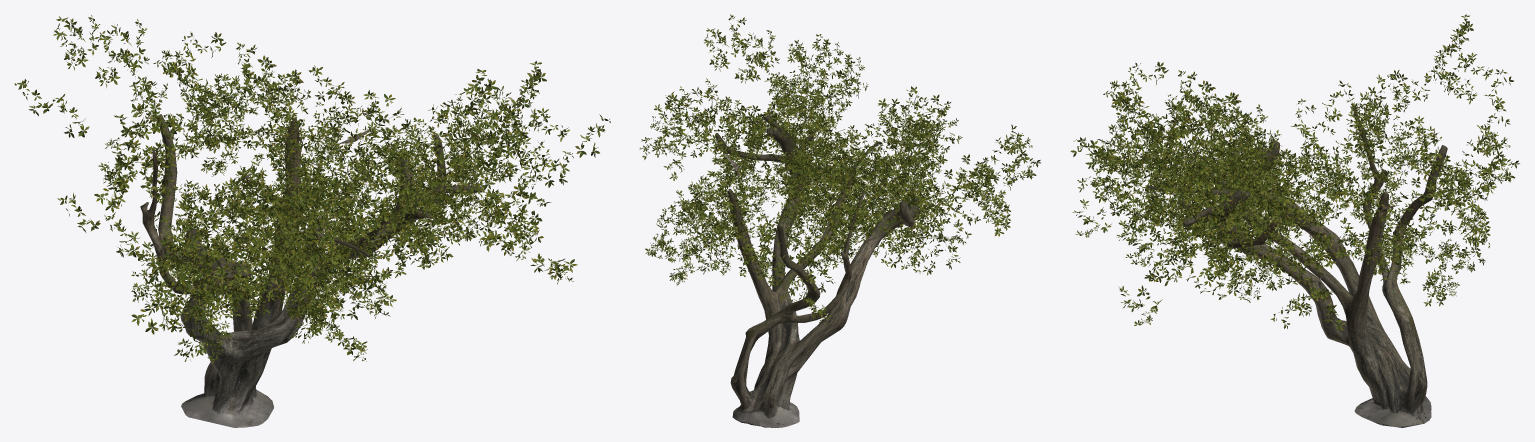
3 views of the same model, side by side, from view 1: azimuth 30°, elevation 25°; view 2: azimuth 150°, elevation 25°; view 3: azimuth 270°, elevation 25° (orthographic). The views are drawn at different scales.
Parts seen in each view (by area): view 1: island_tree_02_LOD0; view 2: island_tree_02_LOD0; view 3: island_tree_02_LOD0.
Part boxes in pixels (bbox=[...]): island_tree_02_LOD0: bbox=[14, 15, 610, 427]; island_tree_02_LOD0: bbox=[639, 14, 1040, 427]; island_tree_02_LOD0: bbox=[1070, 14, 1519, 427].
Bounding box in the file's own units: 3.87 × 3.41 × 4.07.
3 materials, 3 textured.
